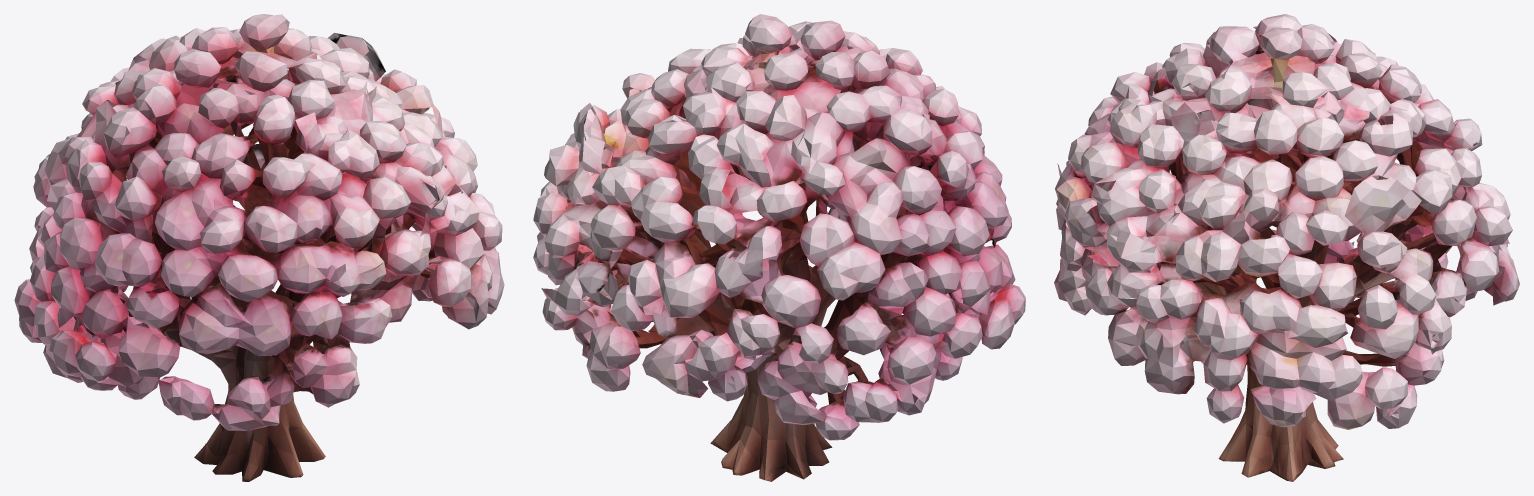
File: Tree_sakura.glb
3 views of the same model, side by side, from view 1: azimuth 30°, elevation 25°; view 2: azimuth 150°, elevation 25°; view 3: azimuth 270°, elevation 25° (orthographic). The views are drawn at different scales.
Parts seen in each view (by area): view 1: Sakura_2, Sakura_1; view 2: Sakura_2, Sakura_1; view 3: Sakura_2, Sakura_1.
Part boxes in pixels (x1=…): Sakura_2: x1=33, y1=14, x2=482, y2=292; Sakura_1: x1=14, y1=134, x2=504, y2=481; Sakura_2: x1=544, y1=14, x2=1008, y2=289; Sakura_1: x1=533, y1=146, x2=1025, y2=481; Sakura_2: x1=1055, y1=14, x2=1498, y2=297; Sakura_1: x1=1054, y1=151, x2=1519, y2=481.
Size of the model in its own units: 0.9666 by 0.915 by 0.9011.
1 material, 1 textured.
